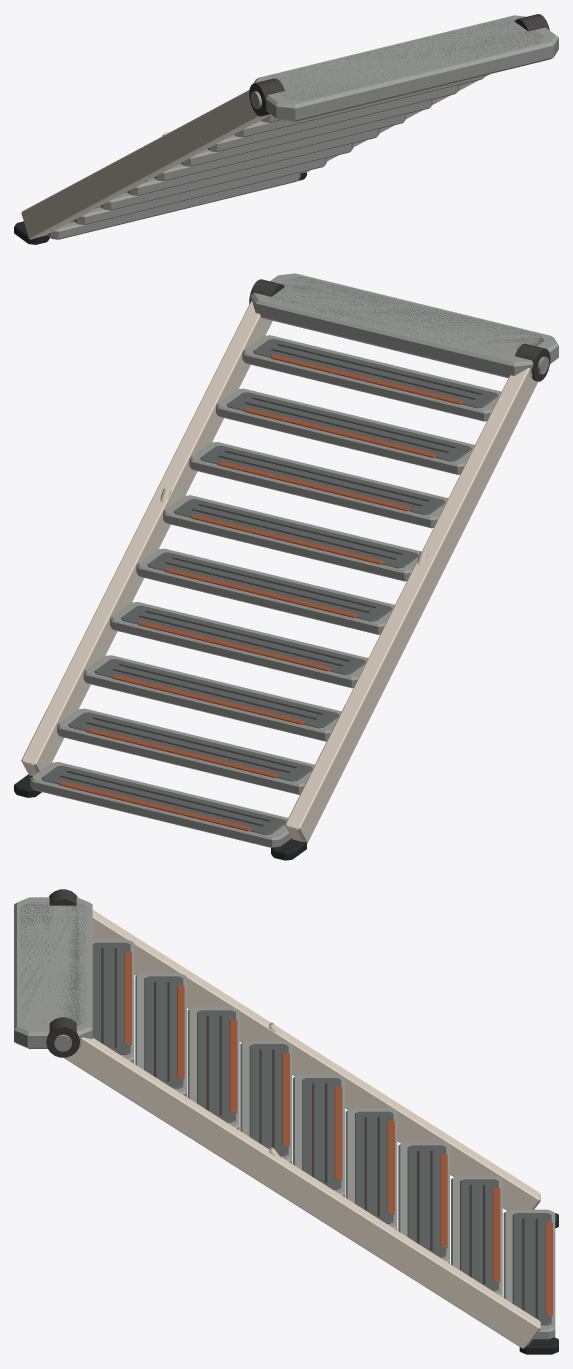
File: SM_SSTO_StairTray.fbx
3 views of the same model, one above another, from view 1: azimuth 30°, elevation 25°; view 2: azimuth 150°, elevation 25°; view 3: azimuth 270°, elevation 25° (orthographic).
Parts seen in each view (by area): view 1: SM_SSTO_StairTray; view 2: SM_SSTO_StairTray; view 3: SM_SSTO_StairTray.
Boxes of the visible parts, left/top/right/bottom form: SM_SSTO_StairTray: left=14, top=14, right=558, bottom=244; SM_SSTO_StairTray: left=14, top=273, right=558, bottom=860; SM_SSTO_StairTray: left=14, top=889, right=558, bottom=1354.
Size of the model in its own units: 1.69 by 2.77 by 1.84.
